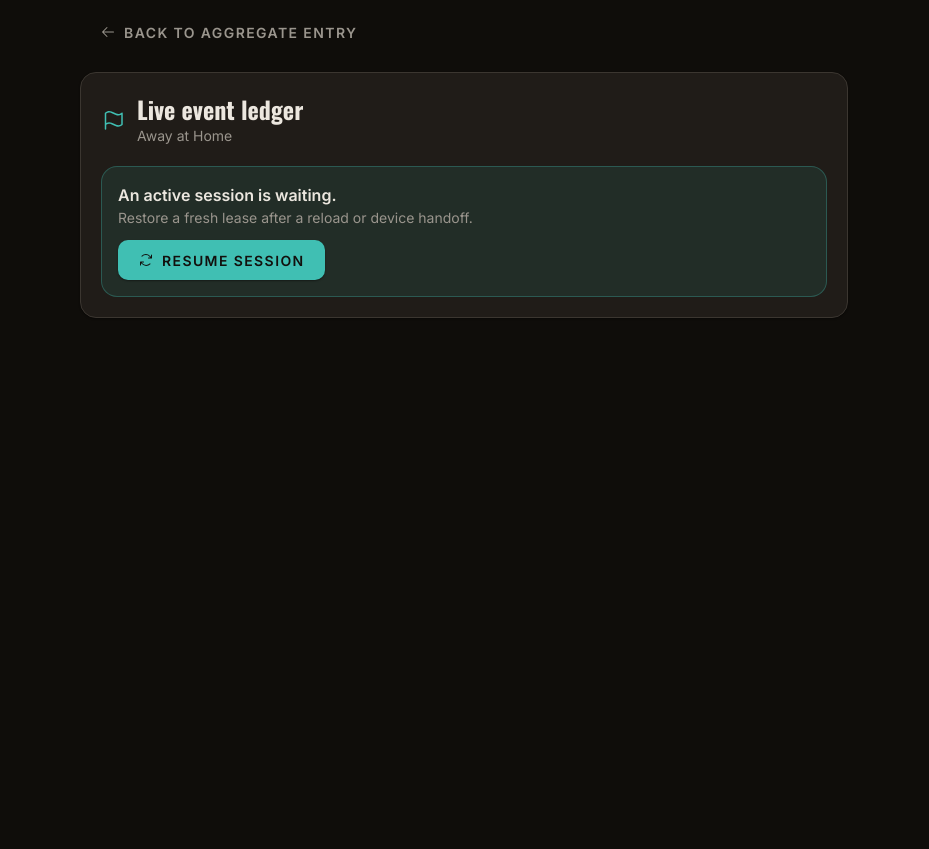
LedgerScorekeeper › [INV-08] a tied evaluation transitions to the next OT period without navigating
The image size is (929, 849).
Click the button "Resume session" at (221, 260), box [118,240,325,280]
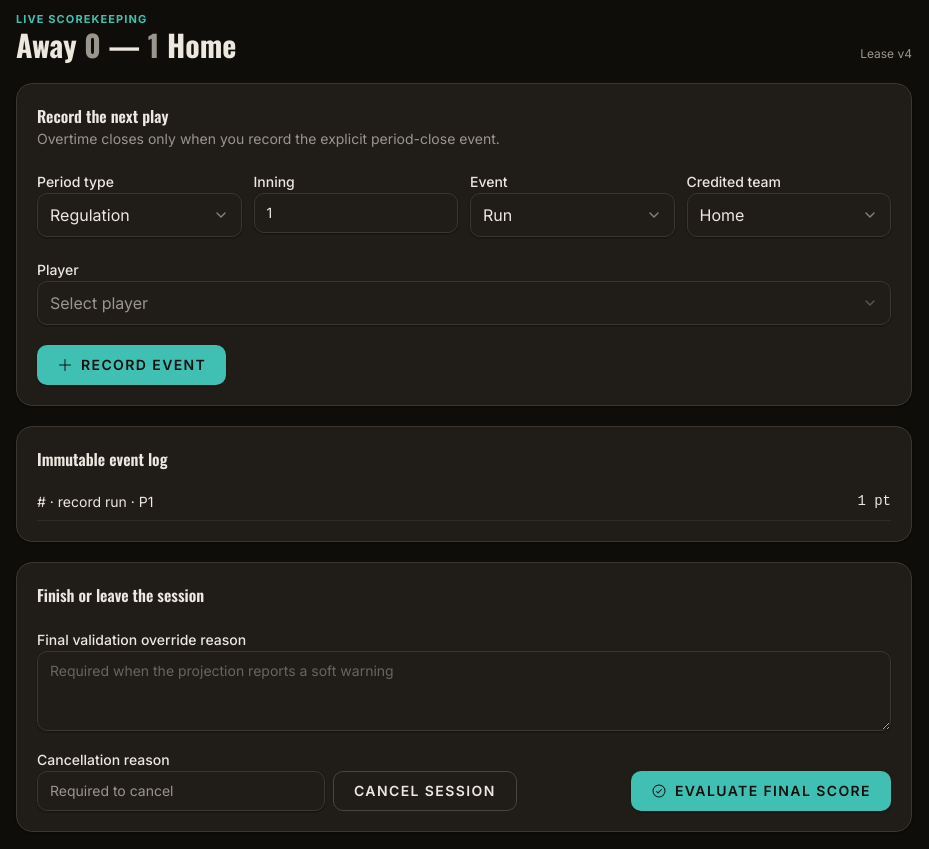
Click the button "Evaluate final score" at (761, 791), box [631,771,891,811]
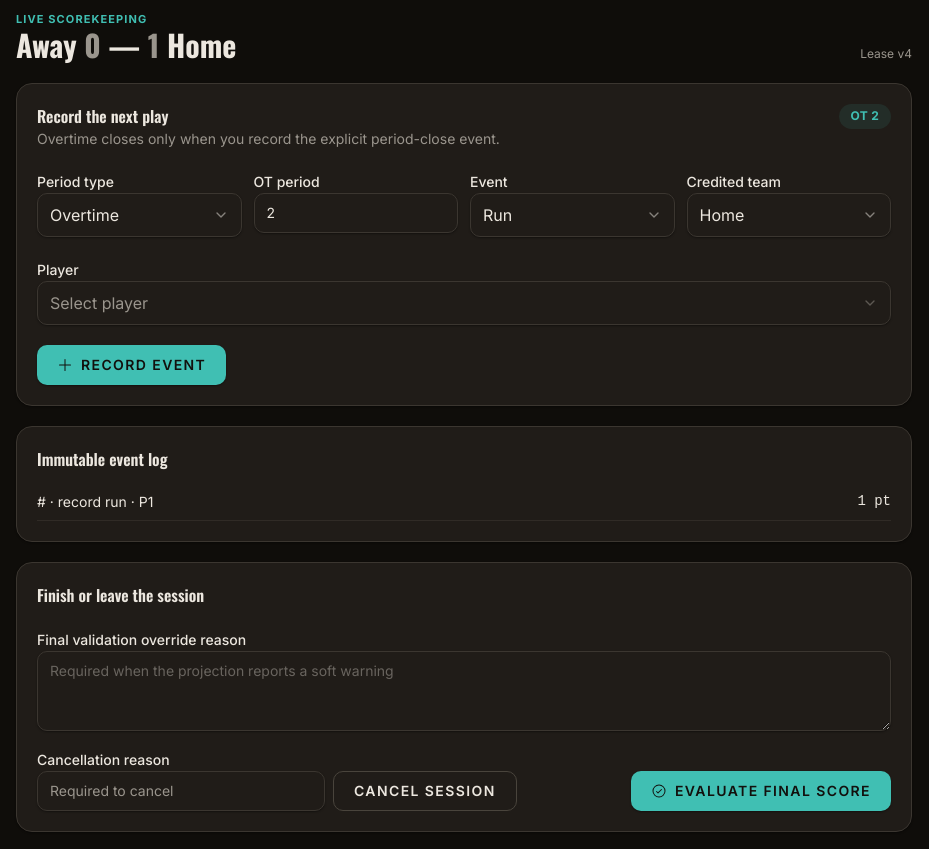
Expected: the text "OT 2" is shown, [838,104,891,129]
